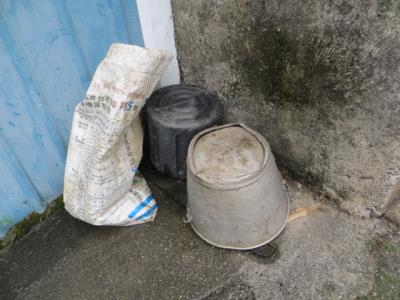bowl: (143, 82, 224, 181)
bucket: (181, 121, 293, 254)
plastic_bag: (63, 41, 159, 226)
